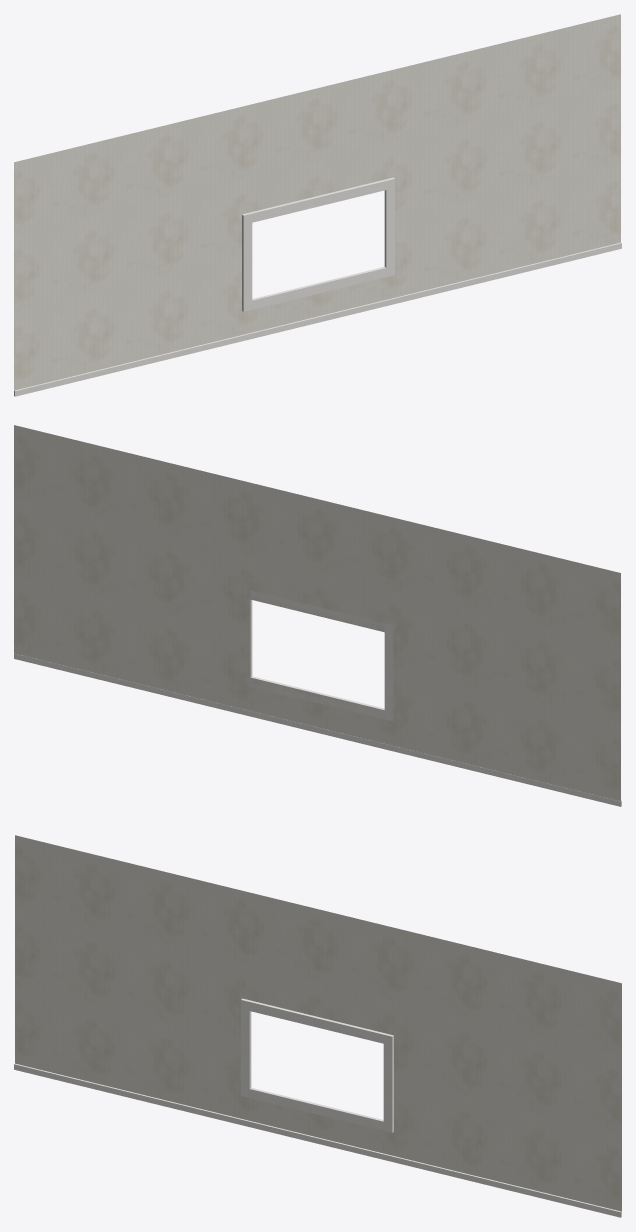
3 renders of one model, top to bottom at view 1: azimuth 30°, elevation 25°; view 2: azimuth 150°, elevation 25°; view 3: azimuth 330°, elevation 25°, orthographic.
Parts seen in each view (by area): view 1: jx_wm_16_c8d37602; view 2: jx_wm_16_c8d37602; view 3: jx_wm_16_c8d37602.
Part boxes in pixels (box(x1,y1,x2,y2)): jx_wm_16_c8d37602: box(14, 14, 621, 396); jx_wm_16_c8d37602: box(14, 425, 621, 806); jx_wm_16_c8d37602: box(14, 835, 621, 1217).
Bounding box in the file's own units: 16.3 × 6 × 0.086.
Materials: 2 (2 with a texture image).
